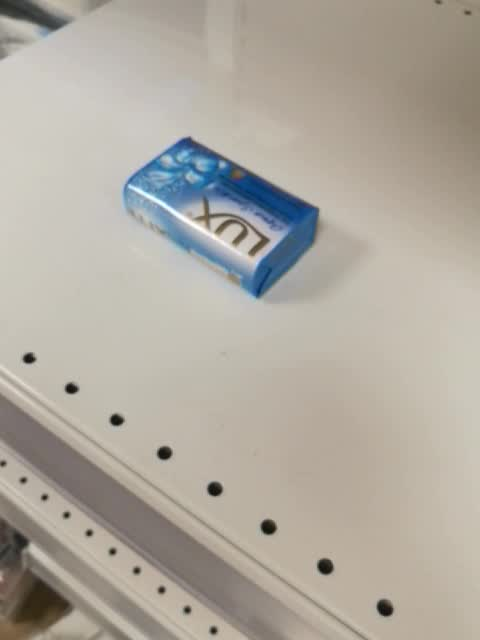soap: (120, 134, 321, 301)
